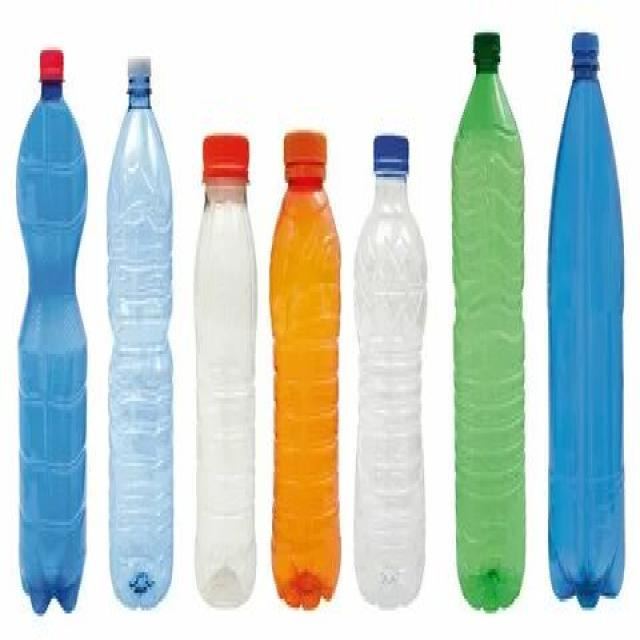blue: (548, 70, 624, 610), (15, 79, 88, 616), (107, 83, 174, 606)
green: (451, 57, 525, 612)
